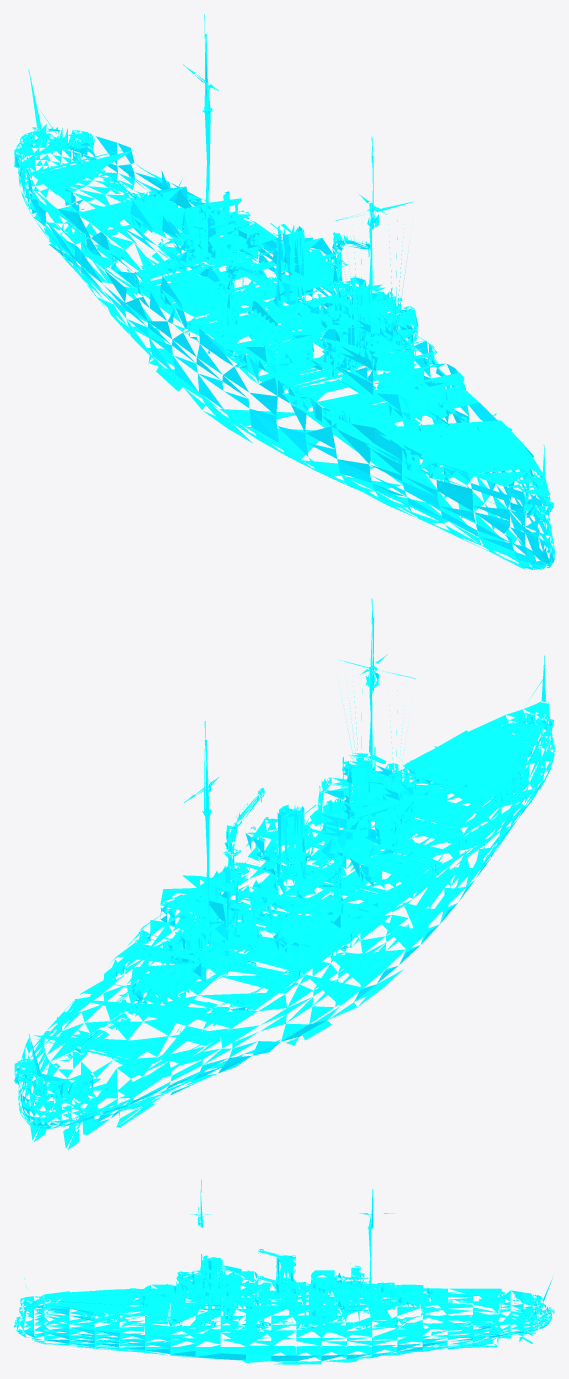
File: Nassau.glb
3 renders of one model, top to bottom at view 1: azimuth 30°, elevation 25°; view 2: azimuth 150°, elevation 25°; view 3: azimuth 270°, elevation 25°, orthographic. The views are drawn at different scales.
Bounding box in the file's own units: 1.79 × 3.35 × 9.81.
